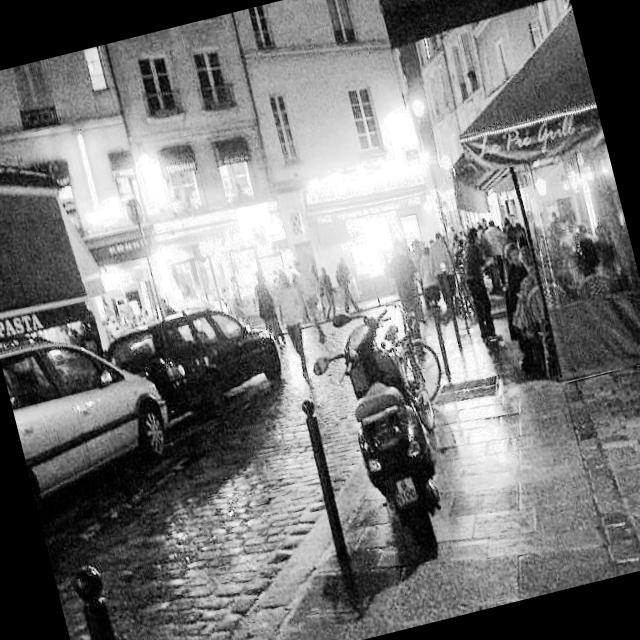Car: (0, 314, 177, 506), (114, 288, 287, 420)
Motorcycle: (304, 296, 482, 570)
Person: (451, 215, 509, 362), (483, 234, 550, 349), (238, 256, 298, 358), (262, 262, 318, 360)
